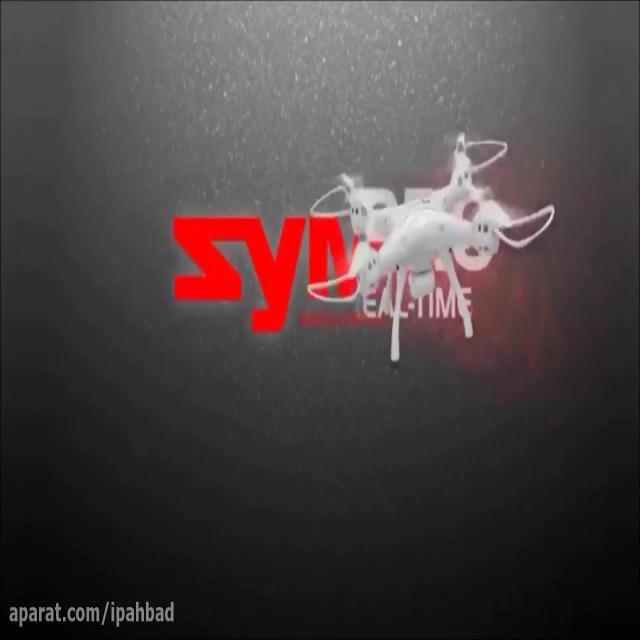drone: (305, 130, 555, 366)
